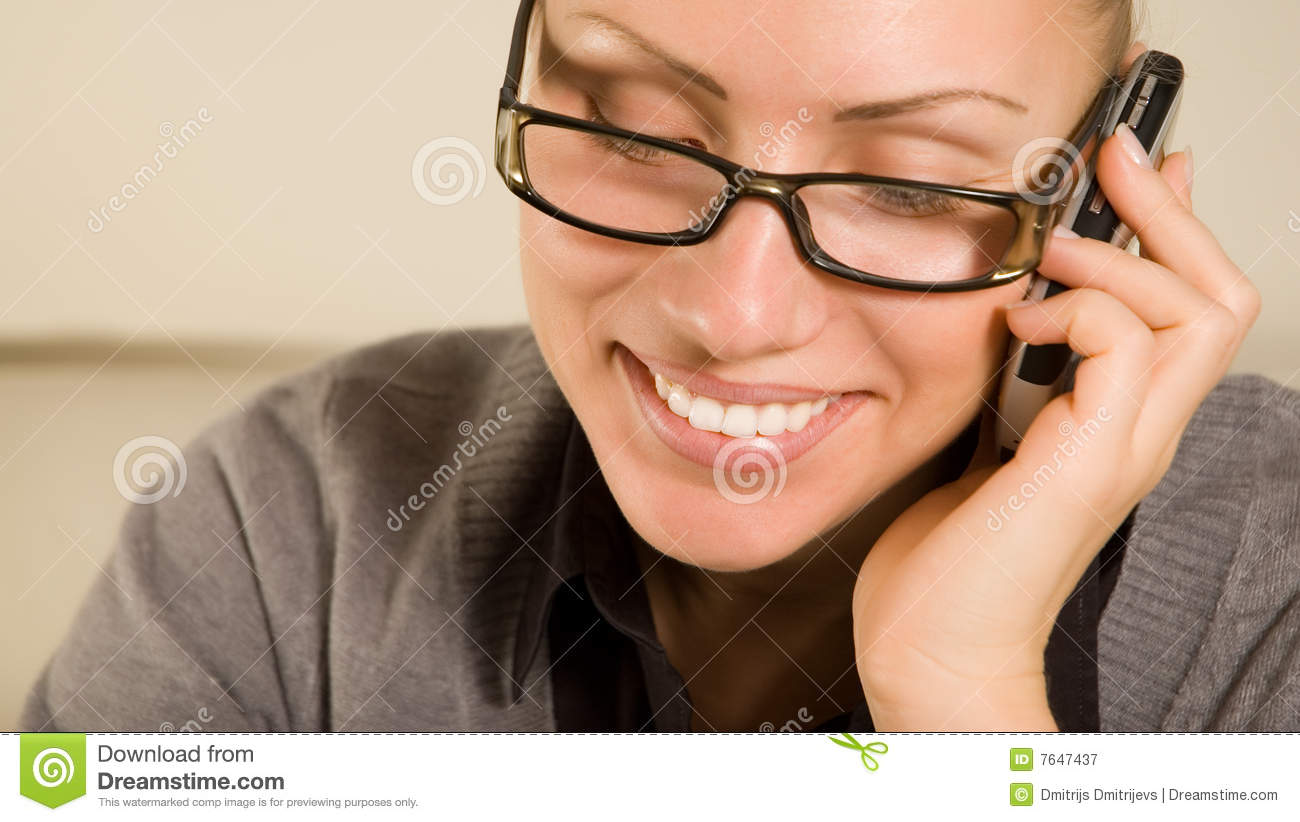phone: (994, 41, 1194, 458)
talk: (530, 5, 1258, 711)
